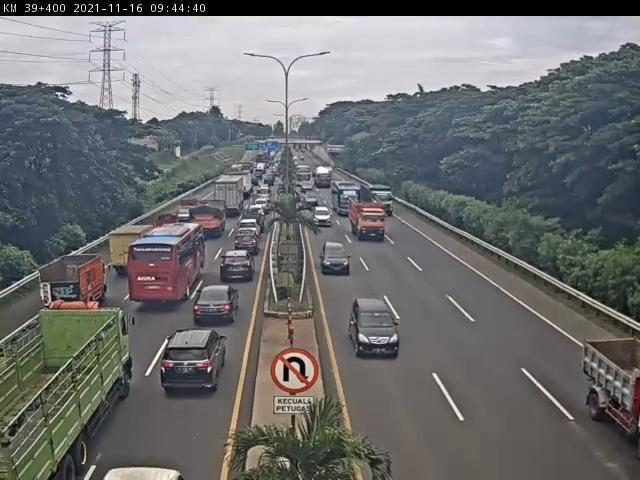bus: (129, 225, 207, 303)
car: (162, 330, 229, 393), (348, 296, 403, 359), (193, 285, 238, 325), (318, 241, 354, 278), (220, 252, 255, 283), (314, 204, 334, 231), (234, 235, 261, 255), (239, 220, 261, 238)
truck: (3, 308, 137, 480), (579, 339, 640, 464), (36, 256, 106, 311), (106, 225, 156, 279), (348, 197, 387, 242), (192, 200, 228, 238)
